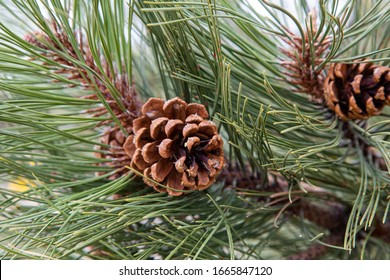Pc: (126, 99, 226, 195), (320, 62, 390, 118)
